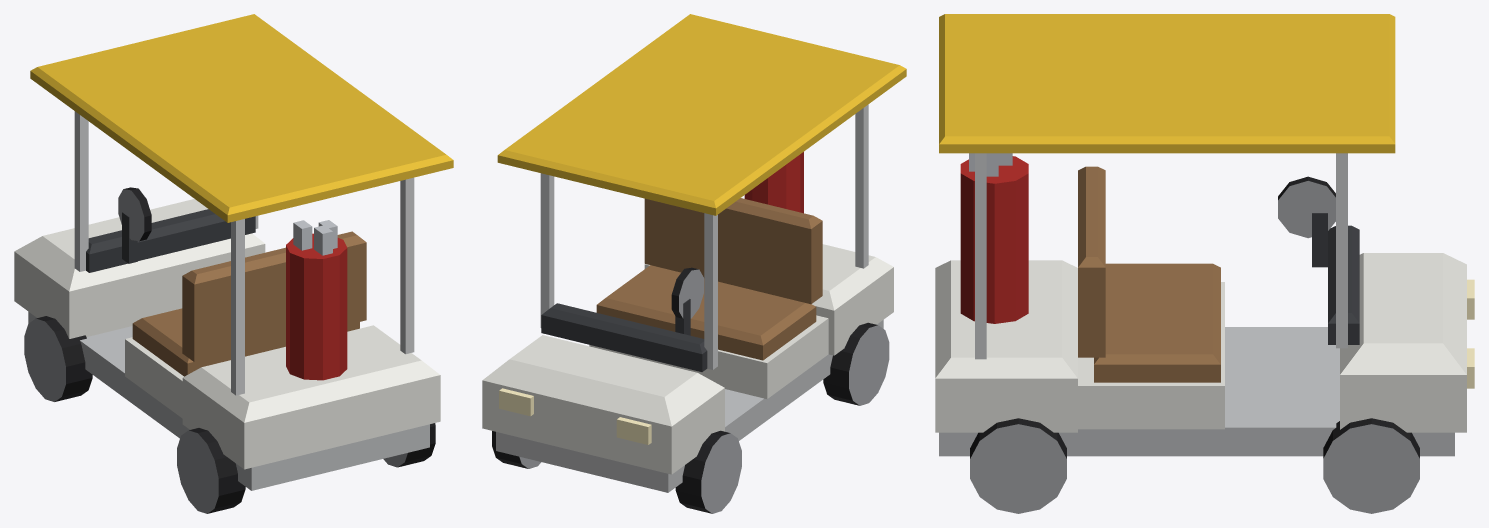
The model's file is cart_yellow.glb.
The picture shows the model from 3 angles, left to right: view 1: azimuth 30°, elevation 25°; view 2: azimuth 150°, elevation 25°; view 3: azimuth 270°, elevation 25°; orthographic projection. The views are drawn at different scales.
Parts seen in each view (by area): view 1: cart_body; view 2: cart_body; view 3: cart_body.
Boxes of the visible parts, x1=… form: cart_body: x1=14, y1=14, x2=453, y2=513; cart_body: x1=482, y1=14, x2=906, y2=513; cart_body: x1=935, y1=14, x2=1474, y2=513.
Size of the model in its own units: 1.52 by 2.1 by 2.72.
Materials: 1 (1 with a texture image).
